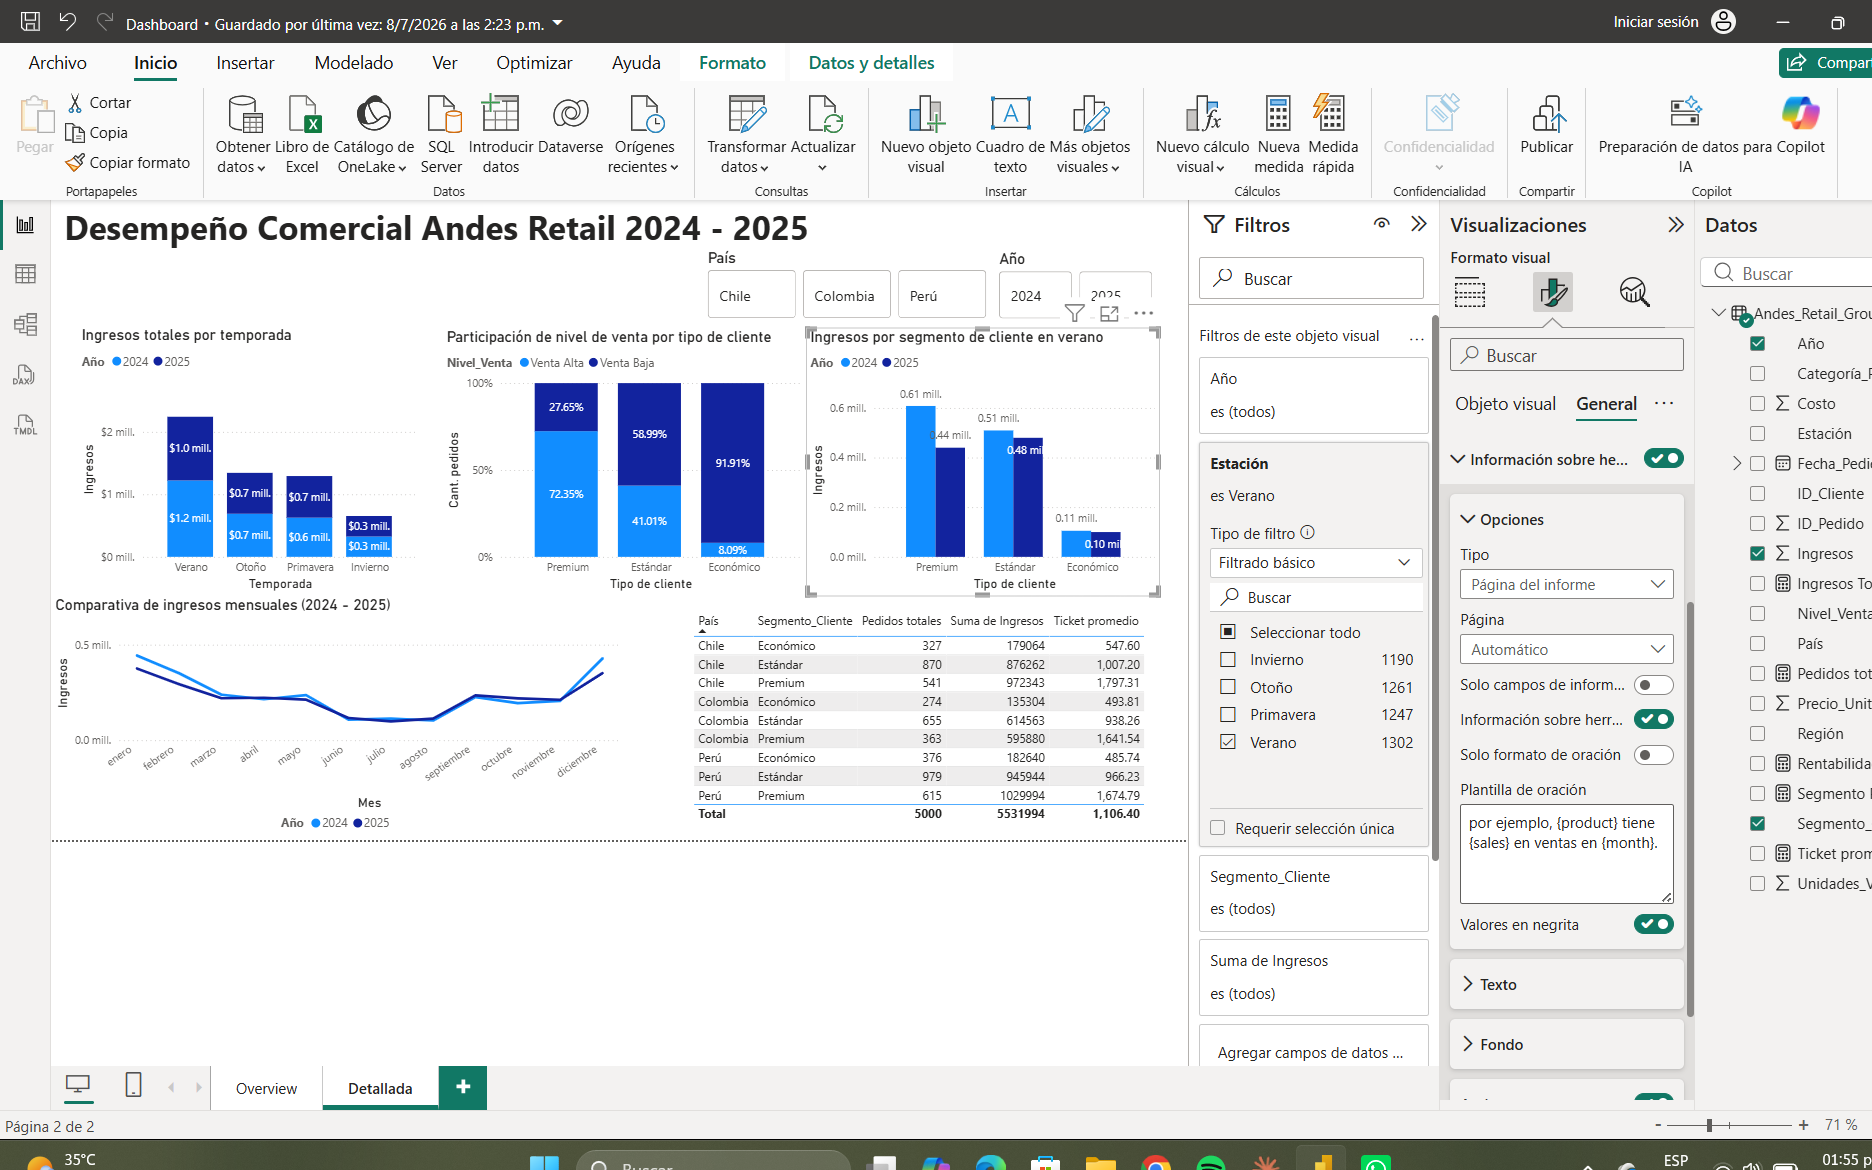

The dashboard page shown, as its layout file describes it:
{"tool":"powerbi","page":{"name":"Detallada","canvas":[1280,720],"ordinal":1},"visuals":[{"type":"textbox","box":[10.5,0,860.5,68.6],"z":0},{"type":"lineChart","title":"Comparativa de ingresos mensuales (2024 - 2025)","fields":{"Y":["Sum(Andes_Retail_Group_2024_2025.Ingresos)"],"Category":["Andes_Retail_Group_2024_2025.Fecha_Pedido.Variación.Jerarquía de fechas.Mes"],"Series":["Andes_Retail_Group_2024_2025.Año"]},"box":[0,446,644.9,274.4],"z":1000},{"type":"advancedSlicerVisual","fields":{"Values":["Andes_Retail_Group_2024_2025.Año"]},"box":[1062.8,55.8,183.7,82.6],"z":2000},{"type":"hundredPercentStackedColumnChart","title":"Participación de nivel de venta por tipo de cliente","fields":{"Category":["Andes_Retail_Group_2024_2025.Segmento_Cliente"],"Series":["Andes_Retail_Group_2024_2025.Nivel_Venta"],"Y":["Count(Andes_Retail_Group_2024_2025.ID_Pedido)"]},"box":[440.5,144.1,408.9,301.9],"z":3000},{"type":"columnChart","title":"Ingresos totales por temporada","fields":{"Category":["Andes_Retail_Group_2024_2025.Estación"],"Y":["Sum(Andes_Retail_Group_2024_2025.Ingresos)"],"Series":["Andes_Retail_Group_2024_2025.Año"]},"box":[30.2,142.7,388.3,303.3],"z":4000},{"type":"advancedSlicerVisual","fields":{"Values":["Andes_Retail_Group_2024_2025.País"]},"box":[733.7,54.7,323.3,83.7],"z":5000},{"type":"tableEx","fields":{"Values":["Andes_Retail_Group_2024_2025.País","Andes_Retail_Group_2024_2025.Segmento_Cliente","Andes_Retail_Group_2024_2025.Pedidos totales","Sum(Andes_Retail_Group_2024_2025.Ingresos)","Andes_Retail_Group_2024_2025.Ticket promedio"]},"box":[717.7,456.9,529.7,251.1],"z":6000},{"type":"clusteredColumnChart","title":"Ingresos por segmento de cliente en verano","fields":{"Category":["Andes_Retail_Group_2024_2025.Segmento_Cliente"],"Series":["Andes_Retail_Group_2024_2025.Año"],"Y":["Sum(Andes_Retail_Group_2024_2025.Ingresos)"]},"box":[849.4,144.1,397.9,301.9],"z":7000}]}

Visuals, with their boxes on the page's 1280x720 design canvas (x1, y1, x2, y2). These are canvas units, not pixel positions in the 1872x1170 screenshot, which may show the page scaled, cropped or inside an application window:
textbox: 10,0,871,69
"Comparativa de ingresos mensuales (2024 - 2025)" lineChart: 0,446,645,720
advancedSlicerVisual - Andes_Retail_Group_2024_2025.Año: 1063,56,1246,138
"Participación de nivel de venta por tipo de cliente" hundredPercentStackedColumnChart: 440,144,849,446
"Ingresos totales por temporada" columnChart: 30,143,418,446
advancedSlicerVisual - Andes_Retail_Group_2024_2025.País: 734,55,1057,138
tableEx - Andes_Retail_Group_2024_2025.País x Andes_Retail_Group_2024_2025.Segmento_Cliente: 718,457,1247,708
"Ingresos por segmento de cliente en verano" clusteredColumnChart: 849,144,1247,446
